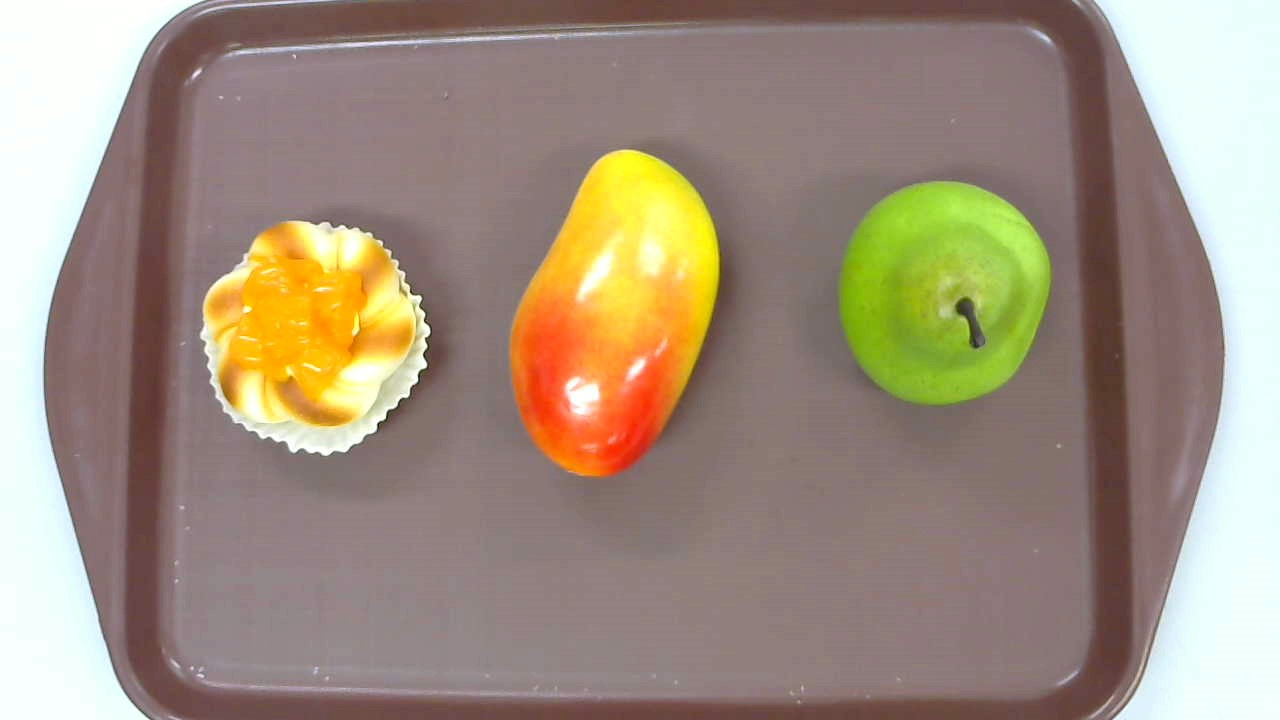green pear: (837, 179, 1050, 408)
mango tart: (200, 219, 430, 457)
red mango: (509, 148, 719, 478)
